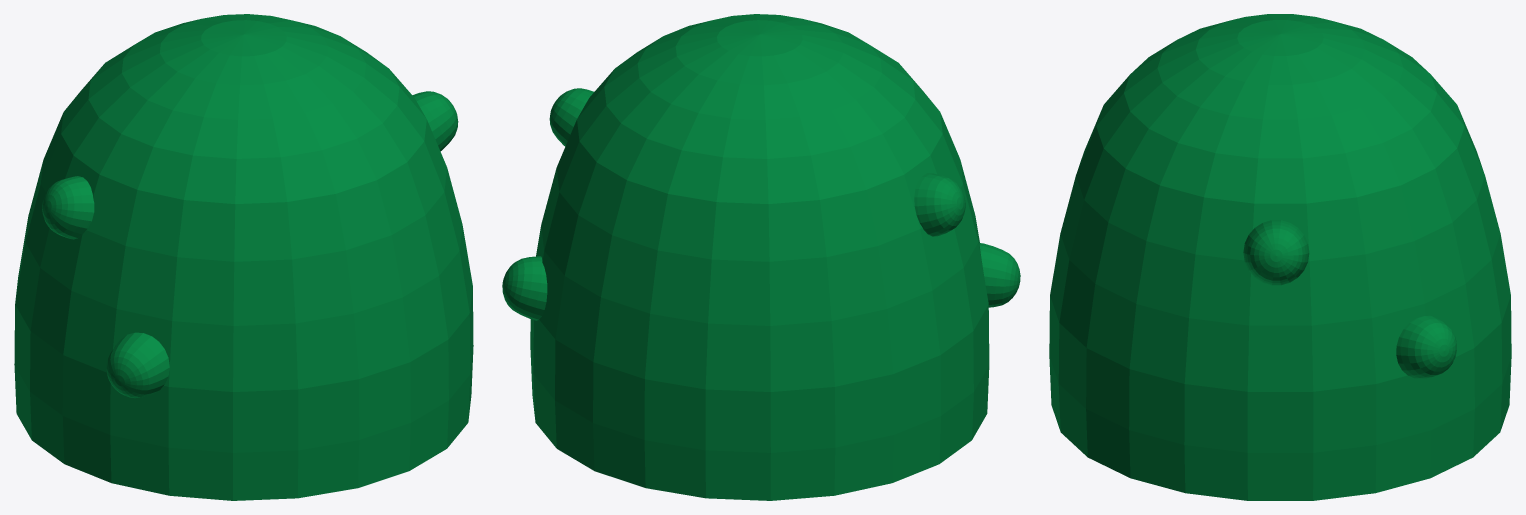
The model's file is Bush.fbx.
The picture shows the model from 3 angles, left to right: view 1: azimuth 30°, elevation 25°; view 2: azimuth 150°, elevation 25°; view 3: azimuth 270°, elevation 25°; orthographic projection.
Visible parts, largest first — view 1: Bush; view 2: Bush; view 3: Bush.
Part boxes in pixels (left/top/right/bottom): Bush: left=14, top=14, right=473, bottom=500; Bush: left=502, top=14, right=1020, bottom=500; Bush: left=1049, top=14, right=1511, bottom=500.
Bounding box in the file's own units: 51.11 × 44.36 × 50.09.
Materials: 1 (1 with a texture image).
